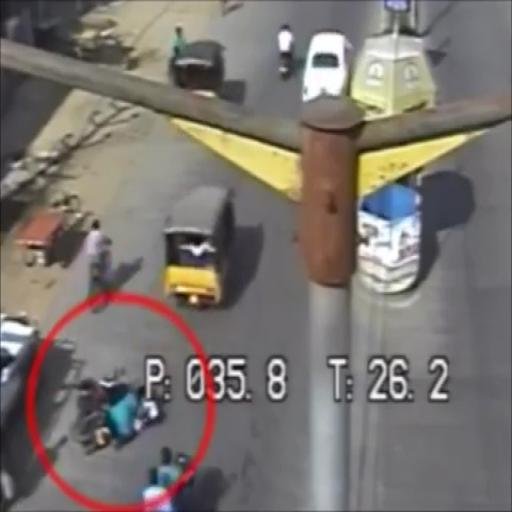小汽车: (157, 186, 232, 302), (304, 32, 352, 104)
自行车: (66, 370, 164, 454), (83, 217, 114, 303), (275, 24, 294, 83)
